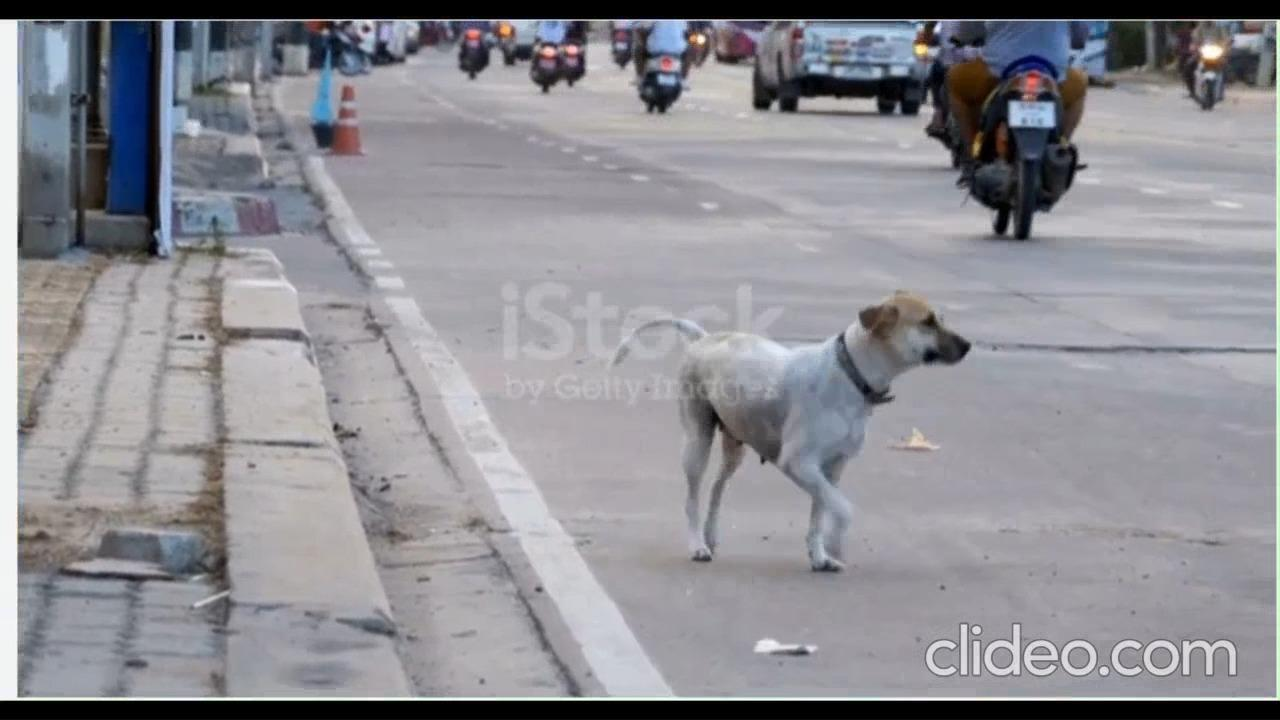dog: (606, 285, 973, 572)
